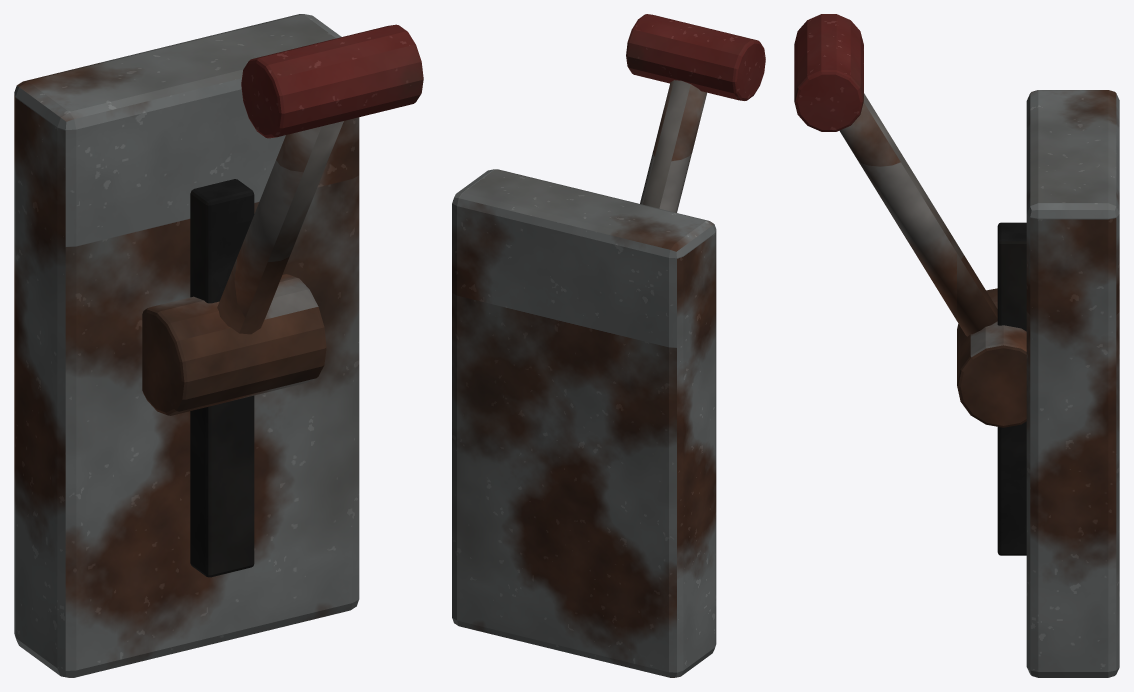
The model's file is G12_gate_lever.glb.
3 views of the same model, side by side, from view 1: azimuth 30°, elevation 25°; view 2: azimuth 150°, elevation 25°; view 3: azimuth 270°, elevation 25° (orthographic). The views are drawn at different scales.
Visible parts, largest first — view 1: G12_gate_lever; view 2: G12_gate_lever; view 3: G12_gate_lever.
Part boxes in pixels (<box>): G12_gate_lever: <box>14,14,423,677</box>; G12_gate_lever: <box>452,14,765,677</box>; G12_gate_lever: <box>794,14,1119,677</box>.
Size of the model in its own units: 0.2731 by 0.6 by 0.3059.
4 materials, 4 textured.
